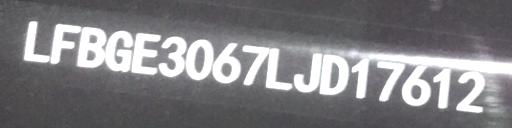letter: (454, 68, 488, 112), (130, 30, 162, 76), (372, 60, 406, 102), (50, 20, 80, 66), (75, 27, 109, 67), (401, 63, 433, 105), (319, 53, 351, 95), (157, 34, 187, 78), (22, 19, 50, 65), (106, 27, 134, 73), (211, 41, 243, 81), (184, 38, 214, 80), (240, 44, 270, 86), (293, 50, 323, 92), (264, 49, 294, 89), (432, 66, 456, 110), (349, 56, 371, 98)
